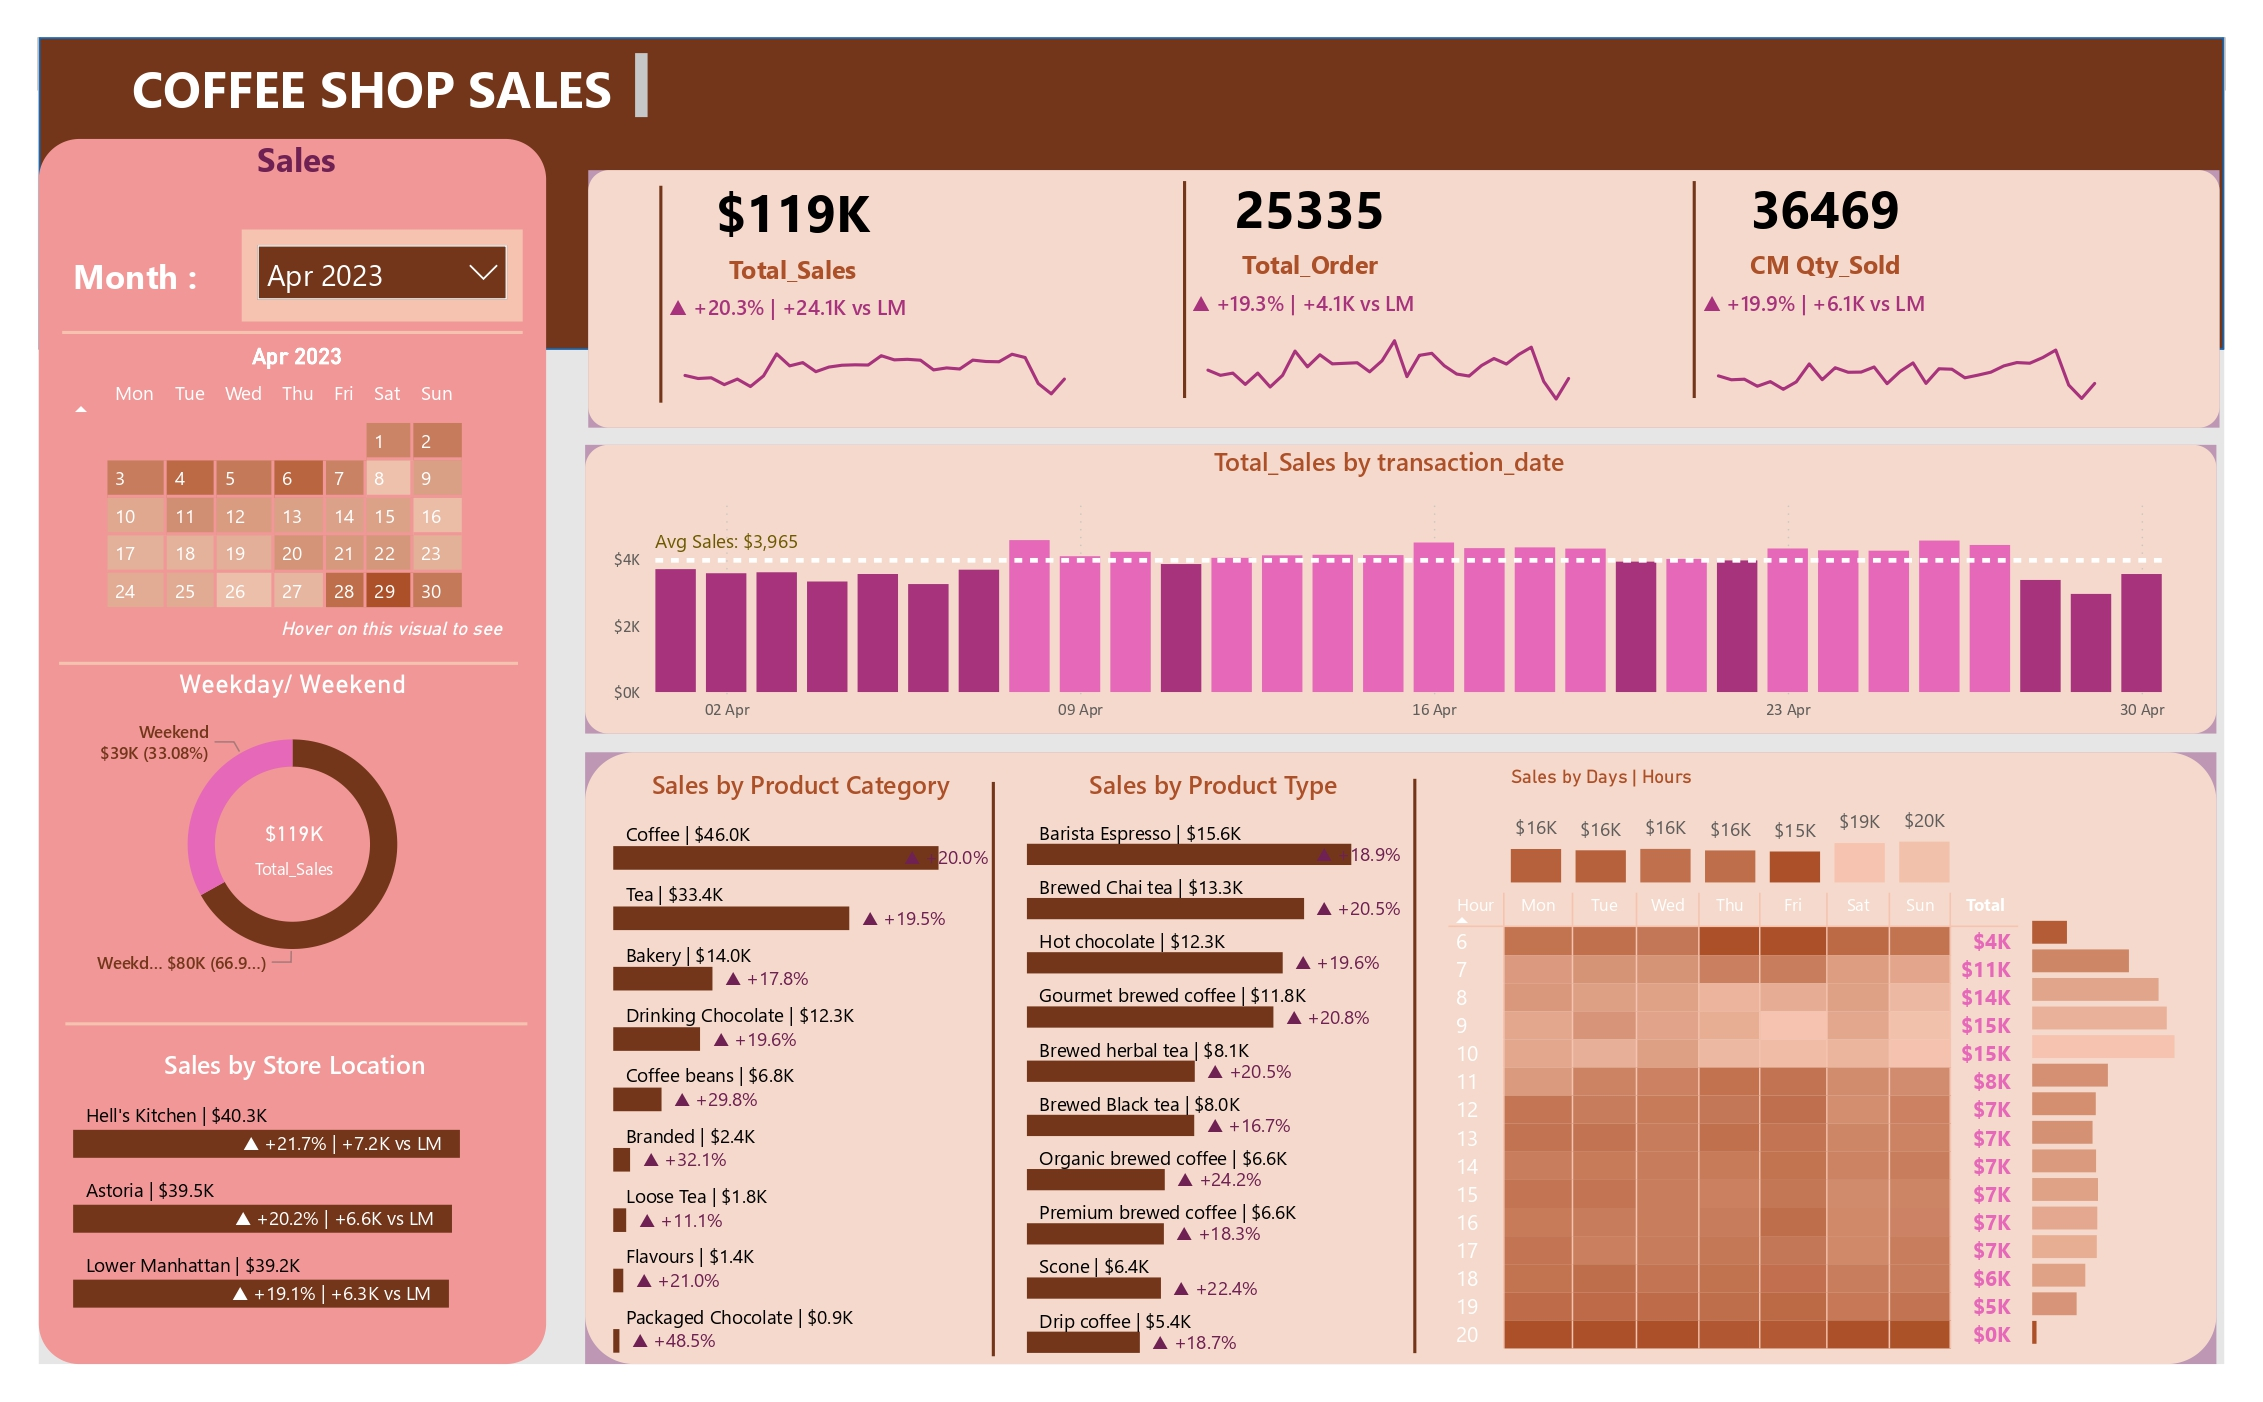

The dashboard page shown, as its layout file describes it:
{"tool":"powerbi","page":{"name":"Page 1","canvas":[1400,850],"ordinal":0},"visuals":[{"type":"shape","box":[350,458.3,1045,391.7],"z":0},{"type":"shape","box":[0,0,1400.3,199.6],"z":1000},{"type":"shape","box":[0,65,325,785],"z":2000},{"type":"shape","box":[351.7,85,1045,165],"z":3000},{"type":"textbox","box":[55,5,340,51.7],"z":4000},{"type":"card","fields":{"Values":["Coffee Shop Sales.Total_Order"]},"box":[689.3,81.3,250.7,78],"z":5000,"group":"g2"},{"type":"card","fields":{"Values":["Coffee Shop Sales.CM Qty_Sold"]},"box":[1013.5,81.3,260.5,78],"z":5000,"group":"g3"},{"type":"card","fields":{"Values":["Coffee Shop Sales.total_sales"]},"box":[351.6,84.3,261.7,78],"z":5000,"group":"g1"},{"type":"slicer","fields":{"Values":["Date Table.Month_Year"]},"box":[130,123.3,180,58.3],"z":5000},{"type":"group","id":"g1","title":"Group 1","box":[351.6,84.3,319.7,165.1],"z":6000},{"type":"lineChart","fields":{"Category":["Date Table.Date.Variation.Date Hierarchy.Year","Date Table.Date.Variation.Date Hierarchy.Quarter","Date Table.Date.Variation.Date Hierarchy.Month","Date Table.Date.Variation.Date Hierarchy.Day"],"Y":["Coffee Shop Sales.Total_Order"]},"box":[734.1,160.8,261.4,85.5],"z":6000,"group":"g2"},{"type":"lineChart","fields":{"Category":["Date Table.Date.Variation.Date Hierarchy.Year","Date Table.Date.Variation.Date Hierarchy.Quarter","Date Table.Date.Variation.Date Hierarchy.Month","Date Table.Date.Variation.Date Hierarchy.Day"],"Y":["Coffee Shop Sales.Total_Qty"]},"box":[1060,160.8,271.7,85.5],"z":6000,"group":"g3"},{"type":"lineChart","fields":{"Category":["Date Table.Date.Variation.Date Hierarchy.Year","Date Table.Date.Variation.Date Hierarchy.Quarter","Date Table.Date.Variation.Date Hierarchy.Month","Date Table.Date.Variation.Date Hierarchy.Day"],"Y":["Sum(Coffee Shop Sales.Sales)"]},"box":[398.3,163.8,272.9,85.5],"z":6000,"group":"g1"},{"type":"group","id":"g2","title":"Group 1","box":[689.3,81.3,306.2,165.1],"z":7000},{"type":"shape","box":[698.3,91.8,71.6,139.6],"z":7000,"group":"g2"},{"type":"shape","box":[1022.8,91.8,74.4,139.6],"z":7000,"group":"g3"},{"type":"shape","box":[360.9,94.8,74.8,139.6],"z":7000,"group":"g1"},{"type":"group","id":"g3","title":"Group 1","box":[1013.5,81.3,318.2,165.1],"z":8000},{"type":"pivotTable","fields":{"Rows":["Date Table.Week No."],"Columns":["Date Table.Day Name"],"Values":["Min(Date Table.Date No.)"]},"box":[12.9,211.4,302.9,190],"z":9000},{"type":"card","fields":{"Values":["Min(Date Table.Month_Year)"]},"box":[94.3,187.1,142.9,37.1],"z":10000},{"type":"card","fields":{"Values":["Coffee Shop Sales.Note"]},"box":[135.7,364.3,180,32.9],"z":11000},{"type":"shape","box":[12.9,385.7,294.3,30],"z":12000},{"type":"shape","box":[15,173.8,295,30],"z":13000},{"type":"donutChart","title":"Weekday/ Weekend","fields":{"Category":["Date Table.Weekday/ Weekend"],"Y":["Coffee Shop Sales.Total_Sales"]},"box":[8.6,404.3,307.1,207.1],"z":13000,"group":"g4"},{"type":"card","fields":{"Values":["Coffee Shop Sales.Total_Sales"]},"box":[127.2,494.3,71.4,48.6],"z":14000,"group":"g4"},{"type":"shape","box":[17.1,617.1,295.7,30],"z":14000},{"type":"clusteredBarChart","title":"Sales by Store Location","fields":{"Category":["Coffee Shop Sales.store_location"],"Y":["Coffee Shop Sales.Placeholder","Coffee Shop Sales.Total_Sales"]},"box":[17.1,647.1,294.3,174.3],"z":15000},{"type":"group","id":"g4","title":"Group 2","box":[8.6,404.3,307.1,207.1],"z":16000},{"type":"shape","box":[350,261.4,1045,185],"z":17000},{"type":"clusteredColumnChart","fields":{"Category":["Coffee Shop Sales.transaction_date"],"Y":["Coffee Shop Sales.Total_Sales"]},"box":[362.9,261.4,1004.3,185.7],"z":18000},{"type":"clusteredBarChart","title":"Sales by Product Category","fields":{"Y":["Coffee Shop Sales.Placeholder","Coffee Shop Sales.Total_Sales"],"Category":["Coffee Shop Sales.product_category"]},"box":[363.3,468.3,250,380],"z":19000},{"type":"shape","box":[595,476.7,33.3,368.3],"z":20000},{"type":"clusteredBarChart","title":"Sales by Product Type","fields":{"Y":["Coffee Shop Sales.Placeholder","Coffee Shop Sales.Total_Sales"],"Category":["Coffee Shop Sales.product_type"]},"box":[628.3,468.3,248.3,380],"z":21000},{"type":"shape","box":[865,475,33.3,368.3],"z":22000},{"type":"pivotTable","fields":{"Rows":["Coffee Shop Sales.Hour"],"Columns":["Date Table.Day Name"],"Values":["Coffee Shop Sales.Total_Sales"]},"box":[898.3,543.3,393.3,303],"z":23000},{"type":"barChart","fields":{"Category":["Coffee Shop Sales.Hour"],"Y":["Coffee Shop Sales.Total_Sales"]},"box":[1271.7,553.3,128.3,288.3],"z":24000},{"type":"columnChart","title":"Sales by Days | Hours","fields":{"Y":["Coffee Shop Sales.Total_Sales"],"Category":["Date Table.Day Name"]},"box":[938.3,466.7,291.7,80],"z":25000},{"type":"textbox","box":[135,58.3,126.7,50],"z":26000},{"type":"textbox","box":[16.7,133.3,125,40],"z":27000}]}

Visuals, with their boxes in screenshot pixels (x1, y1, x2, y2), scaled from the page's 1400x850 canvas onto the 2263x1402 screenshot:
shape: (left=566, top=756, right=2255, bottom=1401)
shape: (left=0, top=0, right=2262, bottom=329)
shape: (left=0, top=107, right=525, bottom=1401)
shape: (left=568, top=140, right=2258, bottom=412)
textbox: (left=89, top=8, right=638, bottom=94)
card - Coffee Shop Sales.Total_Order: (left=1114, top=134, right=1519, bottom=263)
card - Coffee Shop Sales.CM Qty_Sold: (left=1638, top=134, right=2059, bottom=263)
card - Coffee Shop Sales.total_sales: (left=568, top=139, right=991, bottom=268)
slicer - Date Table.Month_Year: (left=210, top=203, right=501, bottom=300)
"Group 1" group: (left=568, top=139, right=1085, bottom=411)
lineChart - Date Table.Date.Variation.Date Hierarchy.Year x Date Table.Date.Variation.Date Hierarchy.Quarter: (left=1187, top=265, right=1609, bottom=406)
lineChart - Date Table.Date.Variation.Date Hierarchy.Year x Date Table.Date.Variation.Date Hierarchy.Quarter: (left=1713, top=265, right=2153, bottom=406)
lineChart - Date Table.Date.Variation.Date Hierarchy.Year x Date Table.Date.Variation.Date Hierarchy.Quarter: (left=644, top=270, right=1085, bottom=411)
"Group 1" group: (left=1114, top=134, right=1609, bottom=406)
shape: (left=1129, top=151, right=1244, bottom=382)
shape: (left=1653, top=151, right=1774, bottom=382)
shape: (left=583, top=156, right=704, bottom=387)
"Group 1" group: (left=1638, top=134, right=2153, bottom=406)
pivotTable - Date Table.Week No. x Date Table.Day Name: (left=21, top=349, right=510, bottom=662)
card - Min(Date Table.Month_Year): (left=152, top=309, right=383, bottom=370)
card - Coffee Shop Sales.Note: (left=219, top=601, right=510, bottom=655)
shape: (left=21, top=636, right=497, bottom=686)
shape: (left=24, top=287, right=501, bottom=336)
"Weekday/ Weekend" donutChart: (left=14, top=667, right=510, bottom=1008)
card - Coffee Shop Sales.Total_Sales: (left=206, top=815, right=321, bottom=895)
shape: (left=28, top=1018, right=506, bottom=1067)
"Sales by Store Location" clusteredBarChart: (left=28, top=1067, right=503, bottom=1355)
"Group 2" group: (left=14, top=667, right=510, bottom=1008)
shape: (left=566, top=431, right=2255, bottom=736)
clusteredColumnChart - Coffee Shop Sales.transaction_date x Coffee Shop Sales.Total_Sales: (left=587, top=431, right=2210, bottom=737)
"Sales by Product Category" clusteredBarChart: (left=587, top=772, right=991, bottom=1399)
shape: (left=962, top=786, right=1016, bottom=1394)
"Sales by Product Type" clusteredBarChart: (left=1016, top=772, right=1417, bottom=1399)
shape: (left=1398, top=783, right=1452, bottom=1391)
pivotTable - Coffee Shop Sales.Hour x Date Table.Day Name: (left=1452, top=896, right=2088, bottom=1396)
barChart - Coffee Shop Sales.Hour x Coffee Shop Sales.Total_Sales: (left=2056, top=913, right=2262, bottom=1388)
"Sales by Days | Hours" columnChart: (left=1517, top=770, right=1988, bottom=902)
textbox: (left=218, top=96, right=423, bottom=179)
textbox: (left=27, top=220, right=229, bottom=286)
